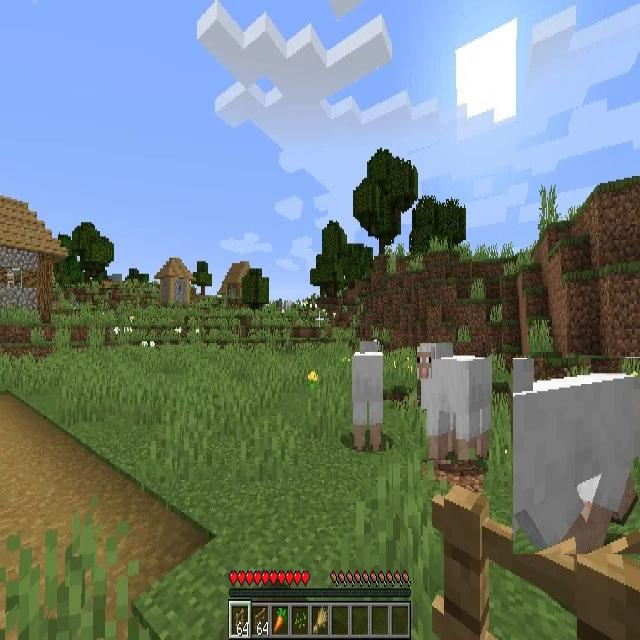flower: (308, 368, 320, 389)
sheep: (513, 358, 640, 554), (417, 342, 492, 460), (352, 338, 383, 450)
